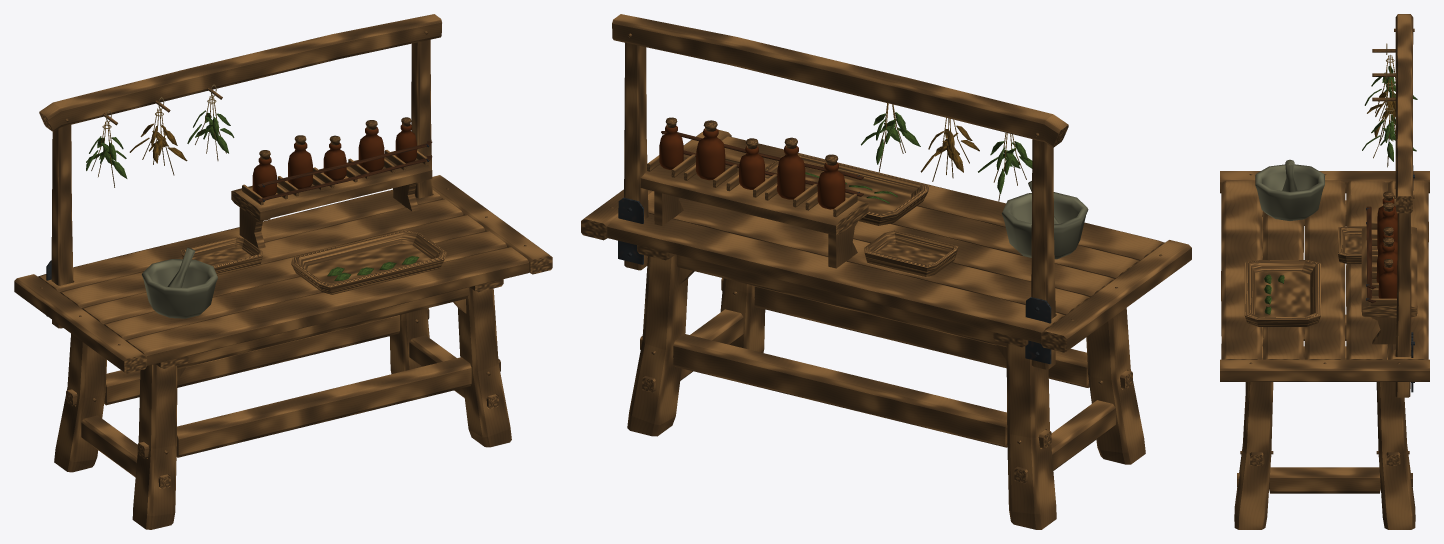
The model's file is frontier_field_apothecary_lod2.glb.
3 renders of one model, left to right at view 1: azimuth 30°, elevation 25°; view 2: azimuth 150°, elevation 25°; view 3: azimuth 270°, elevation 25°, orthographic. The views are drawn at different scales.
Visible parts, largest first — view 1: frontier_field_apothecary.timber, frontier_field_apothecary.amber, frontier_field_apothecary.stoneware, frontier_field_apothecary.sage, frontier_field_apothecary.leather, frontier_field_apothecary.dried, frontier_field_apothecary.endgrain; view 2: frontier_field_apothecary.timber, frontier_field_apothecary.amber, frontier_field_apothecary.stoneware, frontier_field_apothecary.iron, frontier_field_apothecary.sage, frontier_field_apothecary.dried, frontier_field_apothecary.leather, frontier_field_apothecary.endgrain; view 3: frontier_field_apothecary.timber, frontier_field_apothecary.stoneware, frontier_field_apothecary.amber, frontier_field_apothecary.sage, frontier_field_apothecary.endgrain, frontier_field_apothecary.dried, frontier_field_apothecary.leather.
Boxes of the visible parts, x1,y1,x2,y2 form: frontier_field_apothecary.timber: (14, 14, 552, 529); frontier_field_apothecary.amber: (252, 124, 416, 197); frontier_field_apothecary.stoneware: (141, 247, 217, 318); frontier_field_apothecary.sage: (86, 110, 419, 280); frontier_field_apothecary.leather: (257, 141, 432, 202); frontier_field_apothecary.dried: (91, 95, 226, 187); frontier_field_apothecary.endgrain: (40, 31, 526, 454); frontier_field_apothecary.timber: (581, 14, 1191, 529); frontier_field_apothecary.amber: (659, 125, 845, 209); frontier_field_apothecary.stoneware: (1001, 181, 1088, 259); frontier_field_apothecary.iron: (618, 175, 1051, 364); frontier_field_apothecary.sage: (805, 112, 1032, 203); frontier_field_apothecary.dried: (879, 103, 1026, 201); frontier_field_apothecary.leather: (661, 131, 863, 196); frontier_field_apothecary.endgrain: (610, 33, 1162, 444); frontier_field_apothecary.timber: (1220, 14, 1429, 529); frontier_field_apothecary.stoneware: (1255, 159, 1324, 220); frontier_field_apothecary.amber: (1376, 198, 1397, 298); frontier_field_apothecary.sage: (1264, 66, 1417, 314); frontier_field_apothecary.endgrain: (1240, 28, 1414, 454); frontier_field_apothecary.dried: (1367, 55, 1395, 167); frontier_field_apothecary.leather: (1366, 206, 1375, 303).
Bounding box in the file's own units: 2.29 × 1.85 × 1.02.
9 materials, 9 textured.
